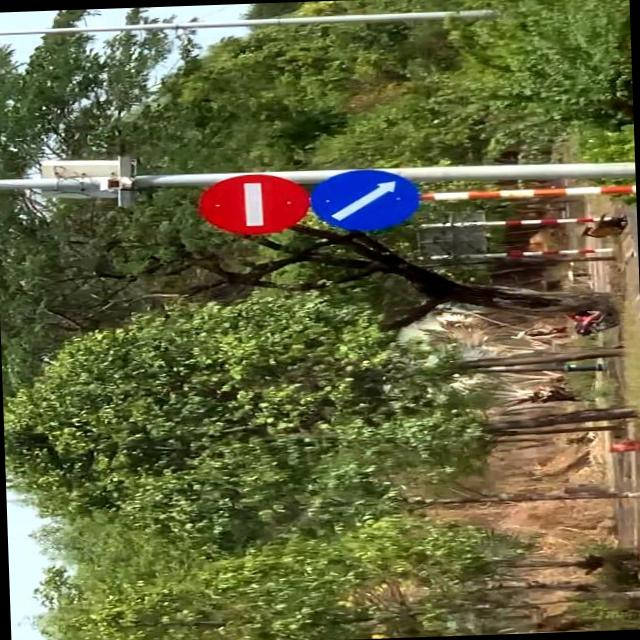P-102: (194, 170, 308, 236)
R-302a: (306, 168, 418, 232)
